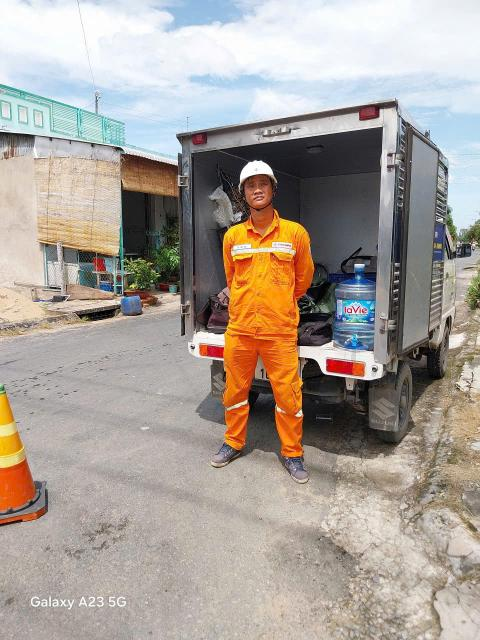helmet: (238, 156, 278, 191)
shoes: (280, 437, 313, 489), (211, 437, 243, 474)
